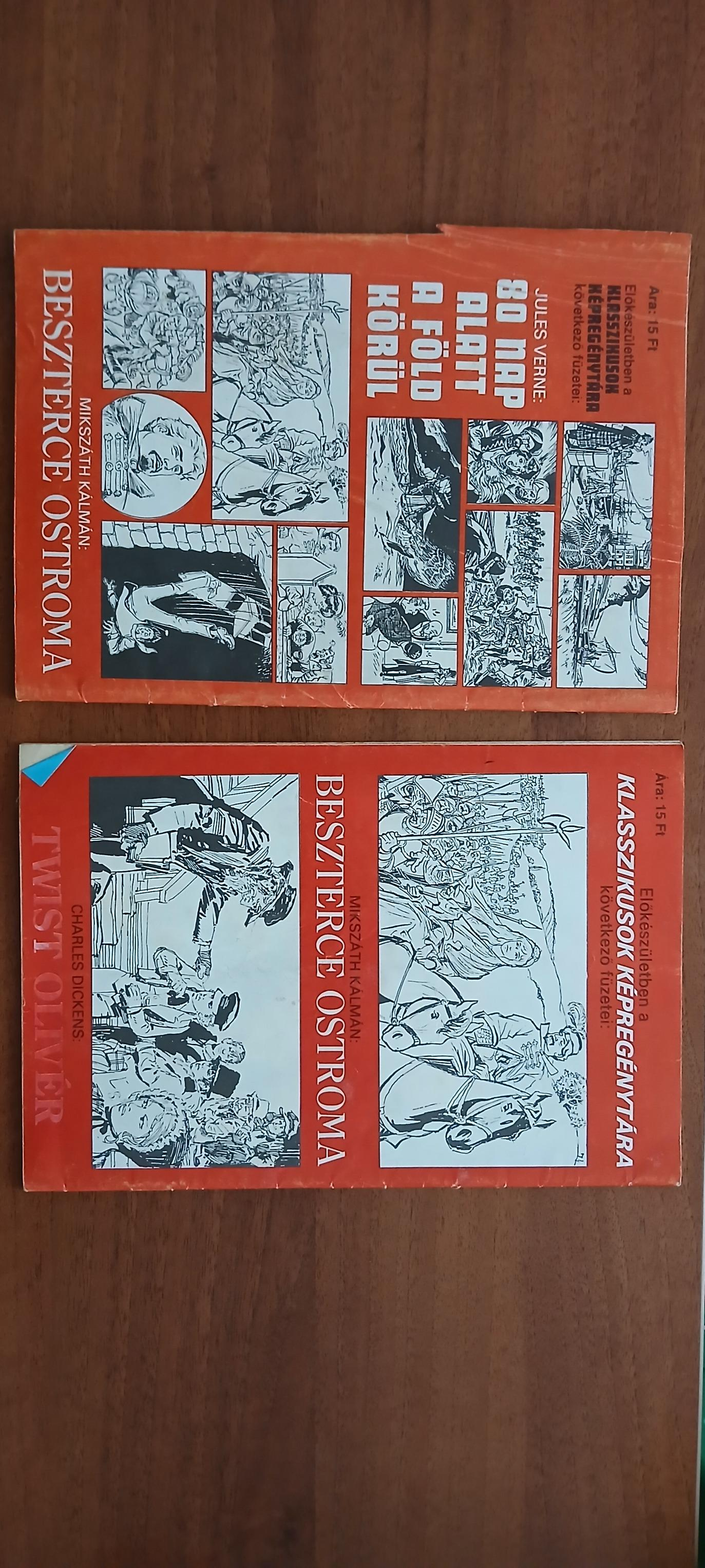comic: (10, 223, 689, 711), (21, 743, 683, 1190)
